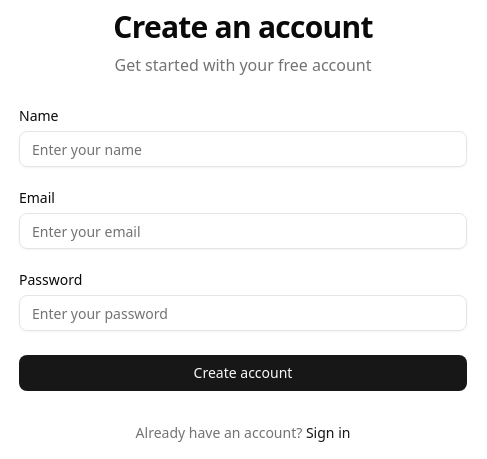
Scenario: Register › shows loading state during submission
Type "John Doe" into the field labelled "Name" at (243, 149), box [19,131,467,167]
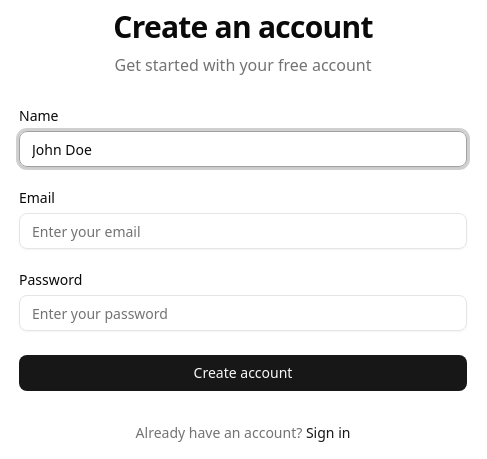
Type "john@example.com" into the field labelled "Email" at (243, 231), box [19,213,467,249]
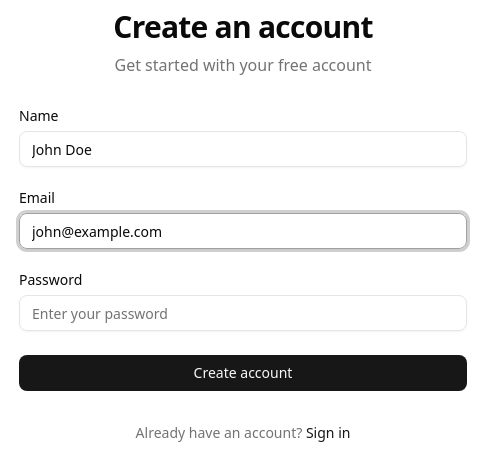
Type "SecurePass1!" into the password field labelled "Password" at (243, 313), box [19,295,467,331]
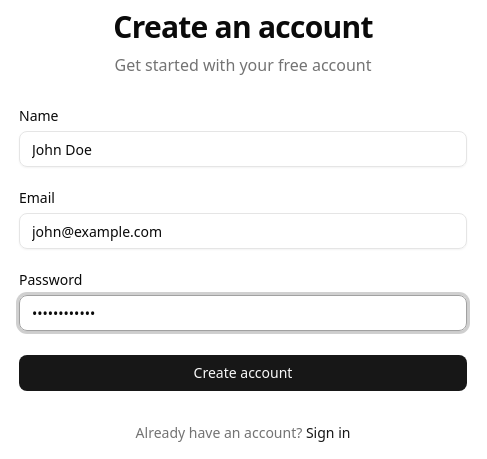
Click the button "Create account" at (243, 373), box [19,355,467,391]
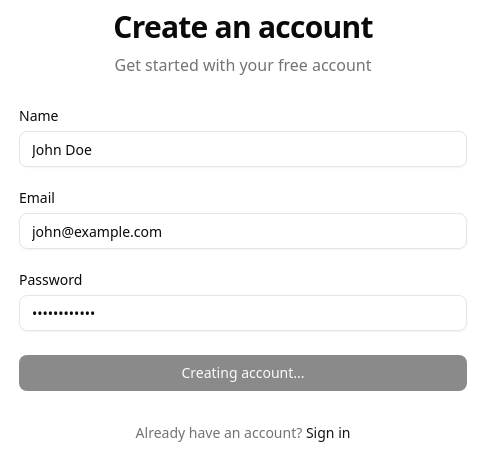
Check: the button "Creating account..." is disabled, box [19,355,467,391]
